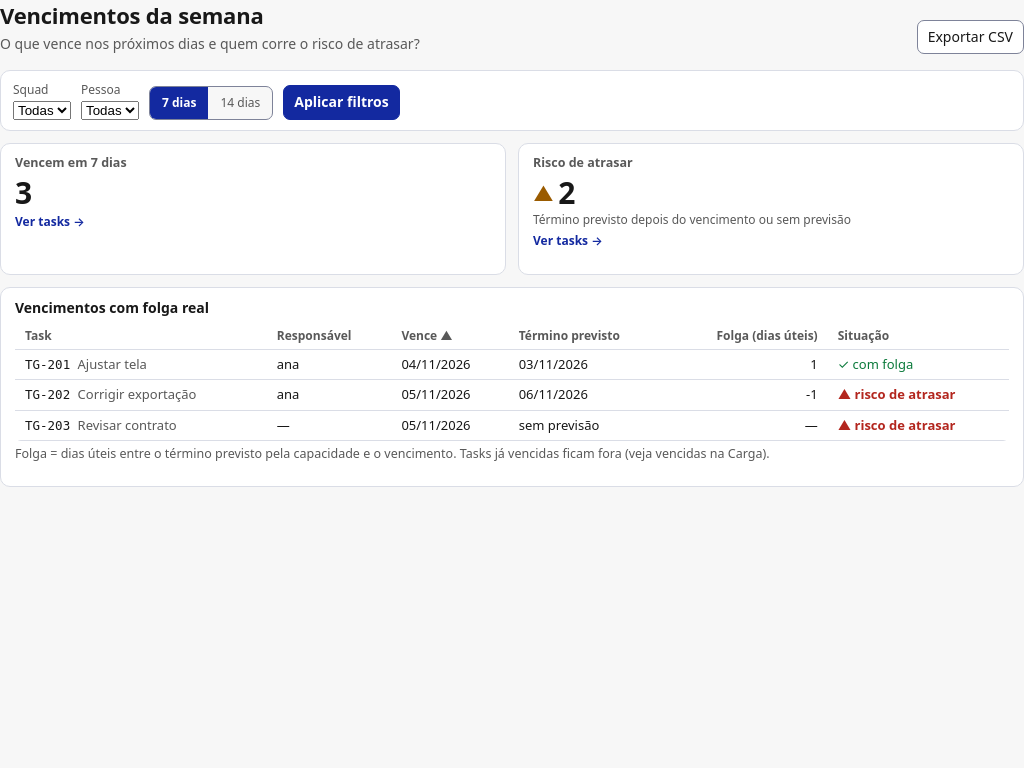
Test: tela Vencimentos da semana › riscoDeAtrasarAbreGavetaComMesmoTamanho
This screenshot has width=1024, height=768.
Click the button named "Risco de atrasar" at (771, 213), box [533, 176, 1009, 250]
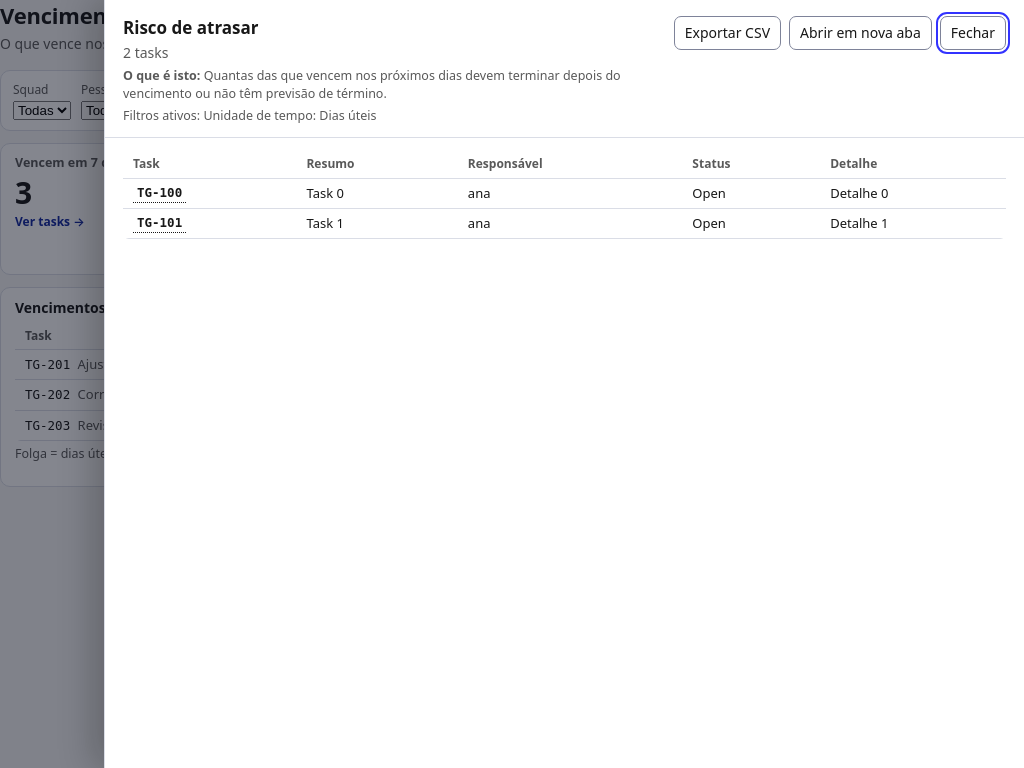
Expected: the text "2 tasks" is shown, [123, 43, 168, 62]
